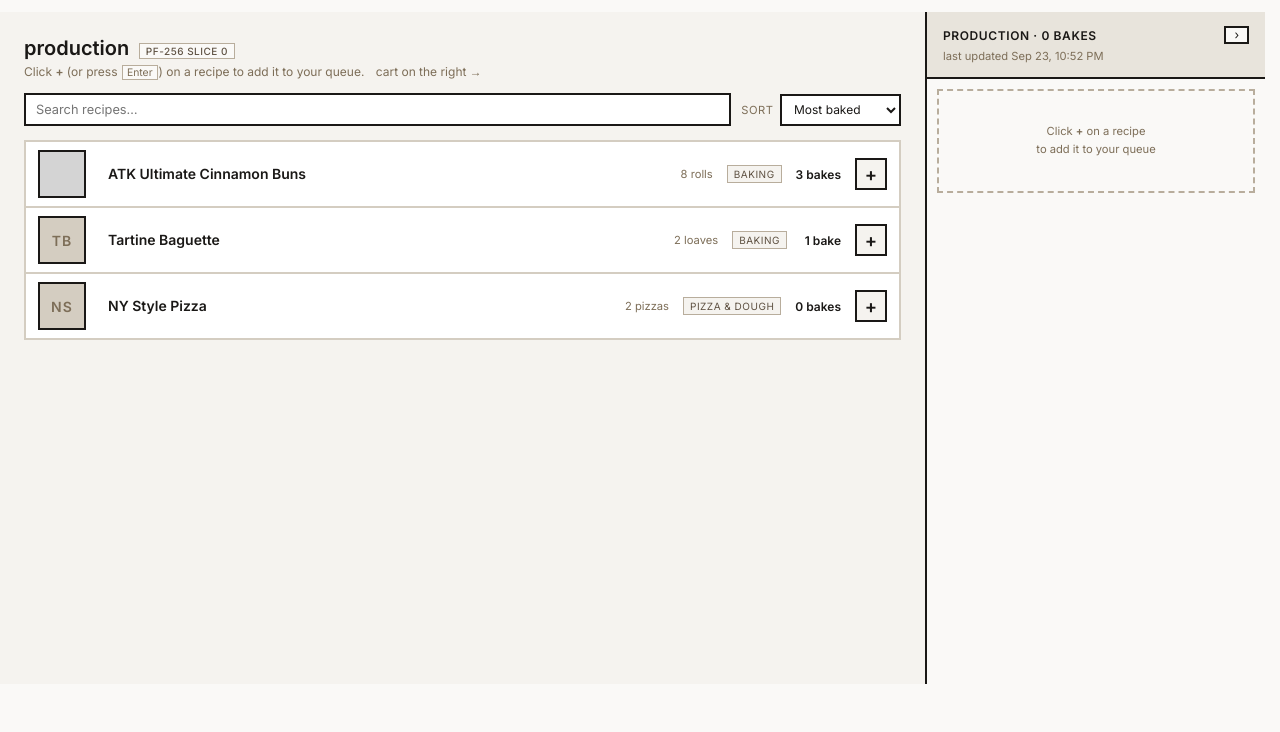
Test: ProductionView (Cart pattern, dense list library) › collapses and expands the cart sidebar
Click the button with test id "cart-collapse": (1237, 35) 1224,26 -> 1249,44
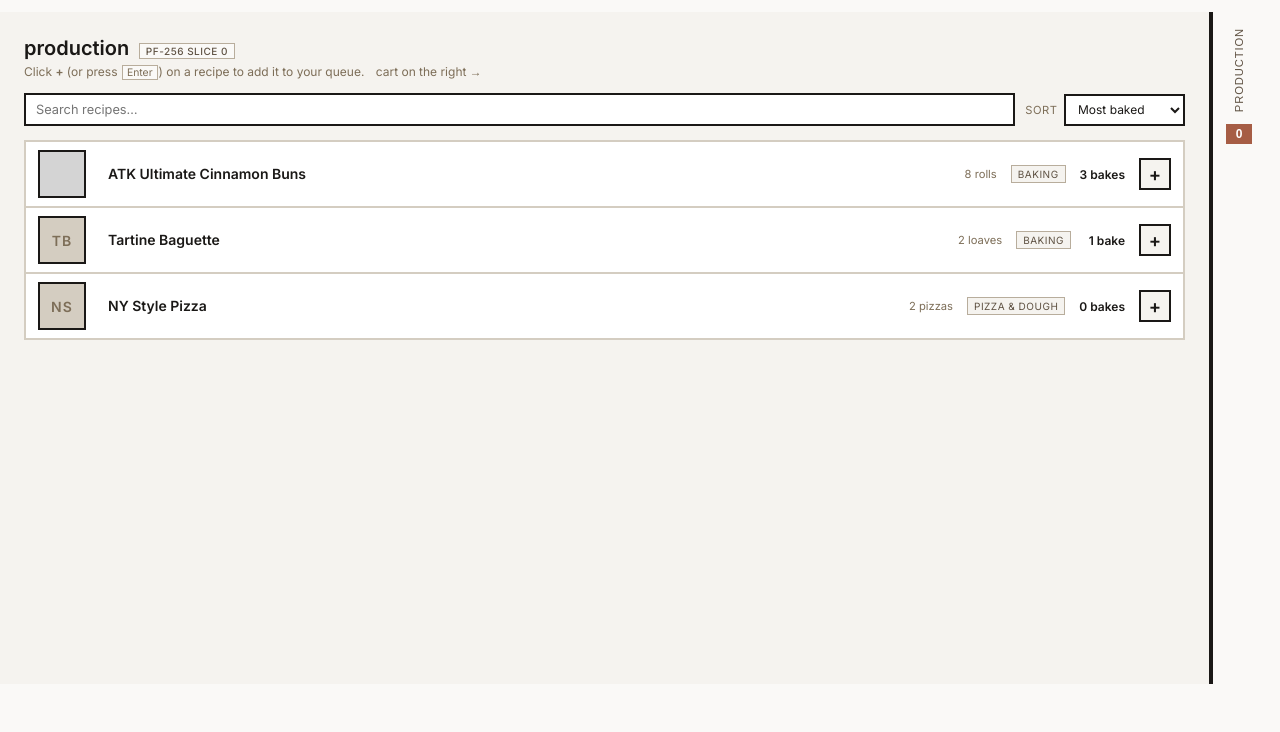
Result: the button with test id "cart-expand" is shown
Click the button with test id "cart-expand": (1238, 348) 1211,12 -> 1265,684
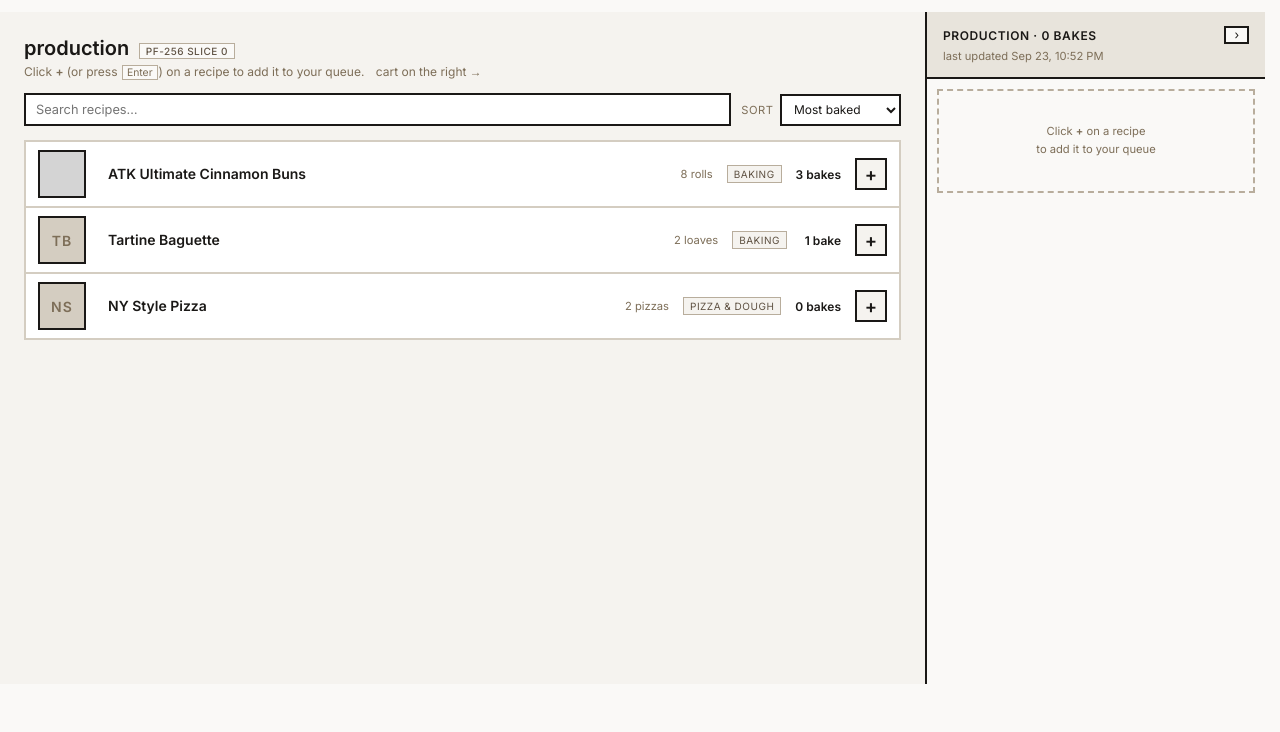
Result: the button with test id "cart-collapse" is shown at 1224,26 -> 1249,44
